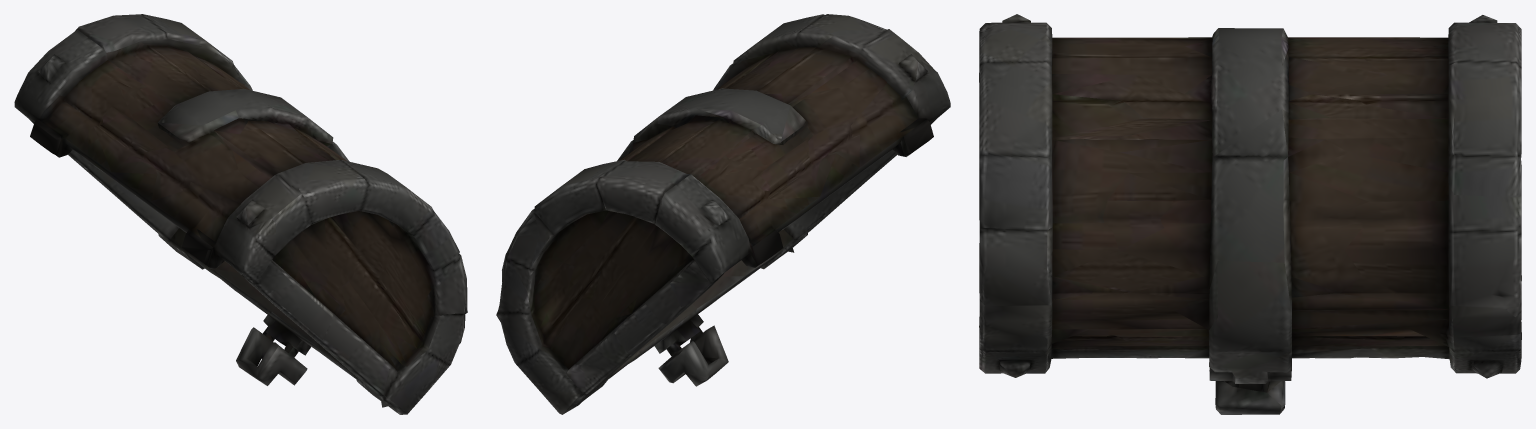
File: Chest_top.fbx
The picture shows the model from 3 angles, left to right: view 1: azimuth 30°, elevation 25°; view 2: azimuth 150°, elevation 25°; view 3: azimuth 270°, elevation 25°; orthographic projection. The views are drawn at different scales.
Visible parts, largest first — view 1: Chest_Top; view 2: Chest_Top; view 3: Chest_Top.
Boxes of the visible parts, left/top/right/bottom form: Chest_Top: left=14, top=14, right=467, bottom=414; Chest_Top: left=496, top=14, right=950, bottom=414; Chest_Top: left=979, top=14, right=1521, bottom=414.
Size of the model in its own units: 50.55 by 59.39 by 84.85.
1 material, 1 textured.
